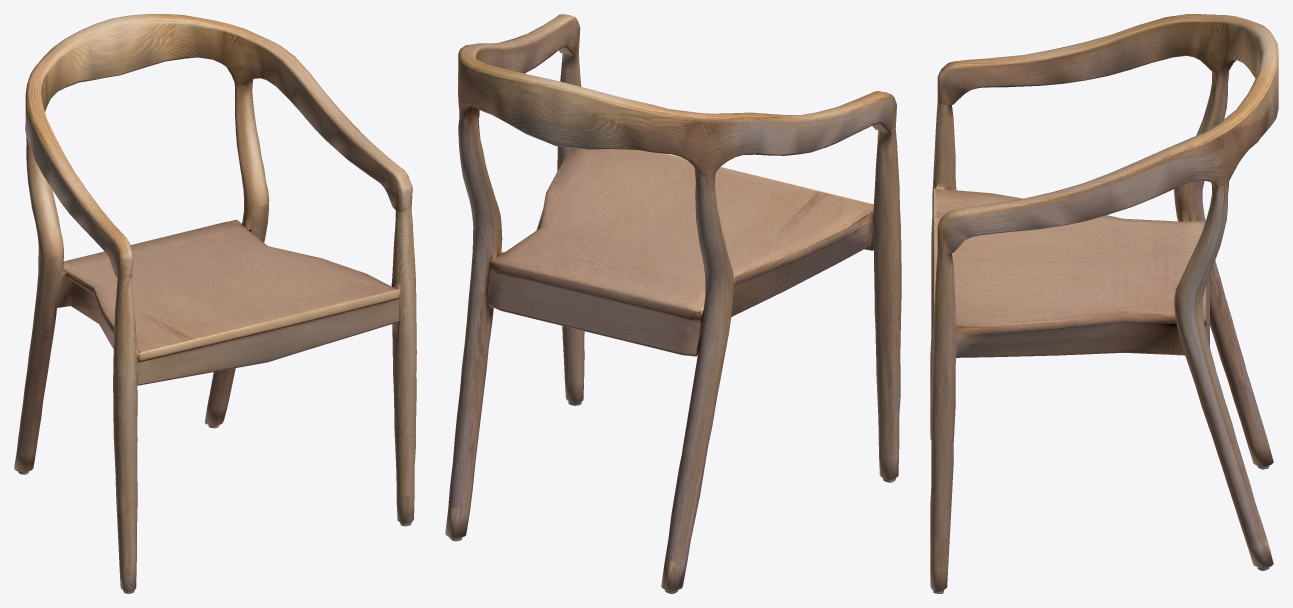
Rendered from Nordic_Armchair_0404021942_texture.glb.
The picture shows the model from 3 angles, left to right: view 1: azimuth 30°, elevation 25°; view 2: azimuth 150°, elevation 25°; view 3: azimuth 270°, elevation 25°; orthographic projection. The views are drawn at different scales.
Visible parts, largest first — view 1: Mesh_0.003; view 2: Mesh_0.003; view 3: Mesh_0.003.
Boxes of the visible parts, x1,y1,x2,y2 form: Mesh_0.003: [14, 14, 416, 593]; Mesh_0.003: [445, 14, 901, 593]; Mesh_0.003: [930, 14, 1278, 593].
Bounding box in the file's own units: 0.5958 × 0.8128 × 0.5491.
Materials: 1 (1 with a texture image).
